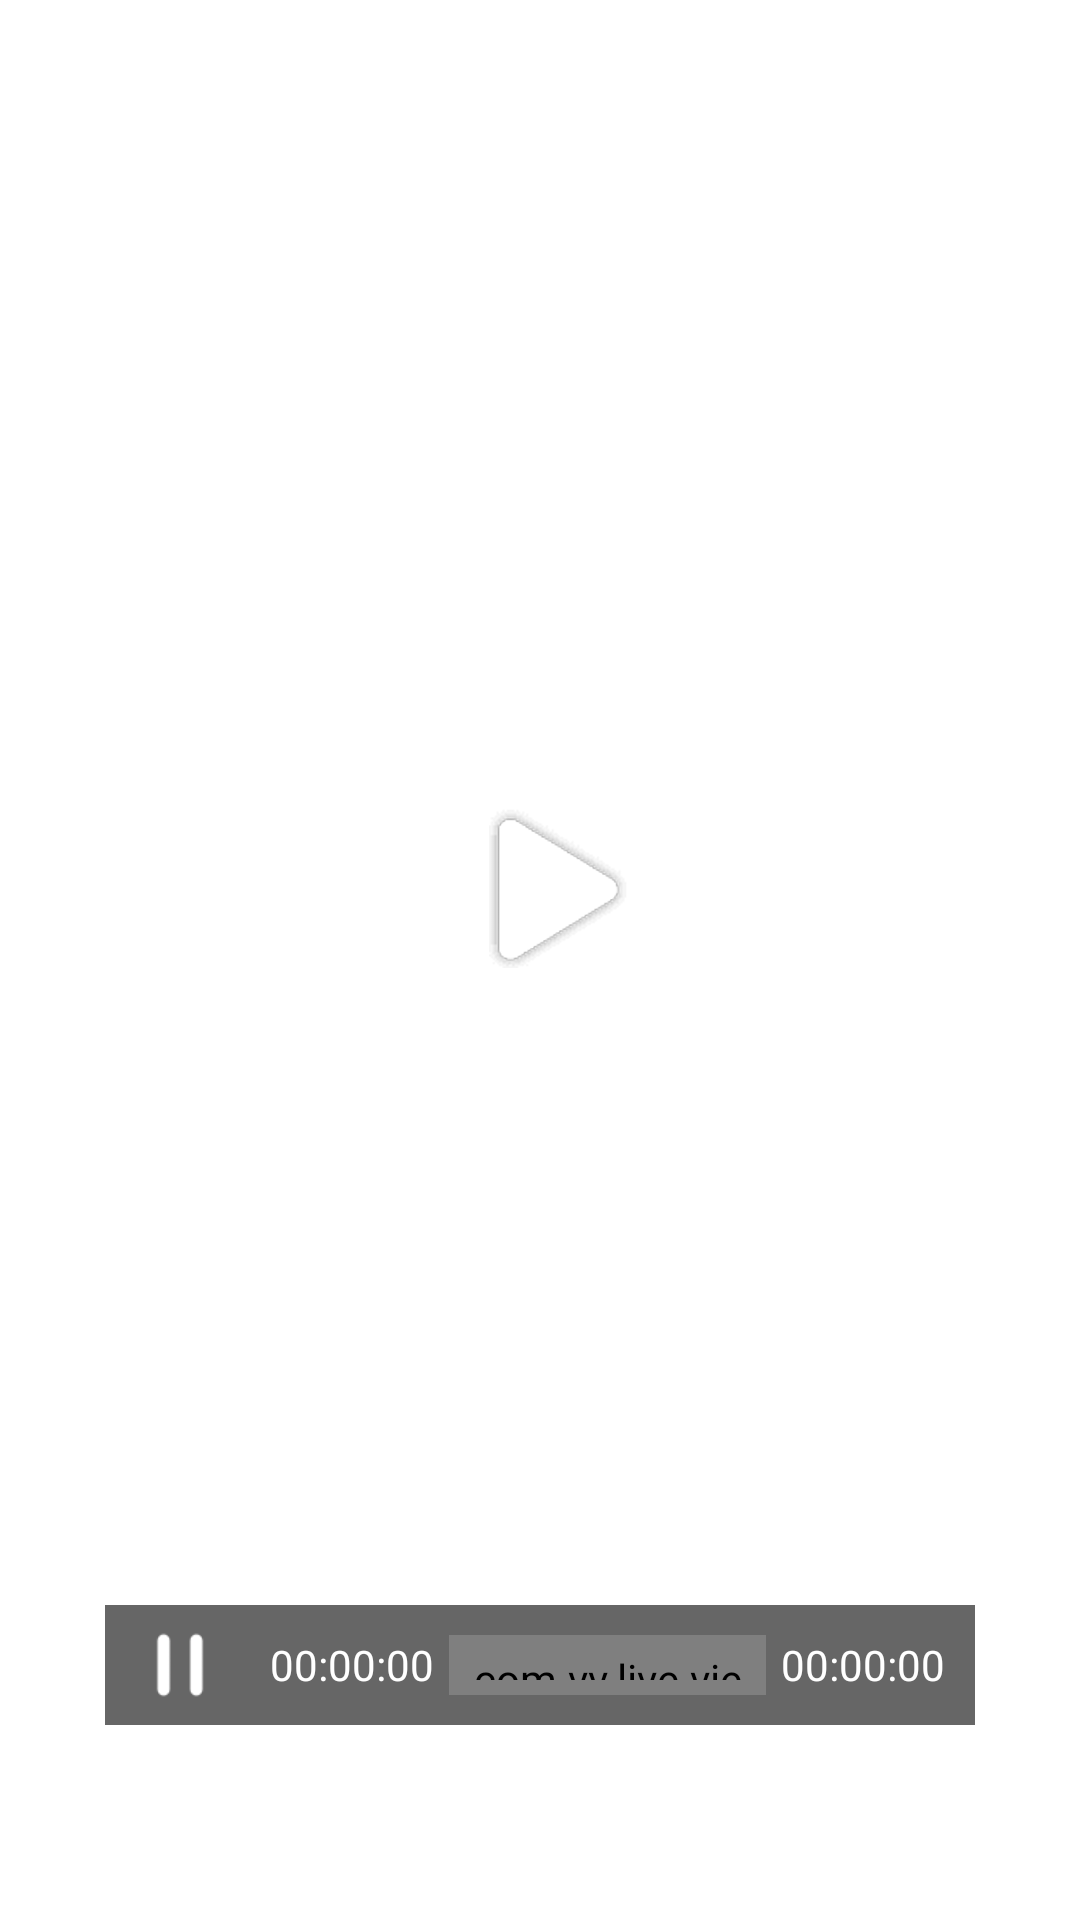

Locate icon controls on the screen. Image size 1080px x 1920px, boxes as bbox=[x1, y1, x2, y2].
pause: bbox=[157, 1634, 203, 1696]
start play: bbox=[493, 815, 621, 964]
